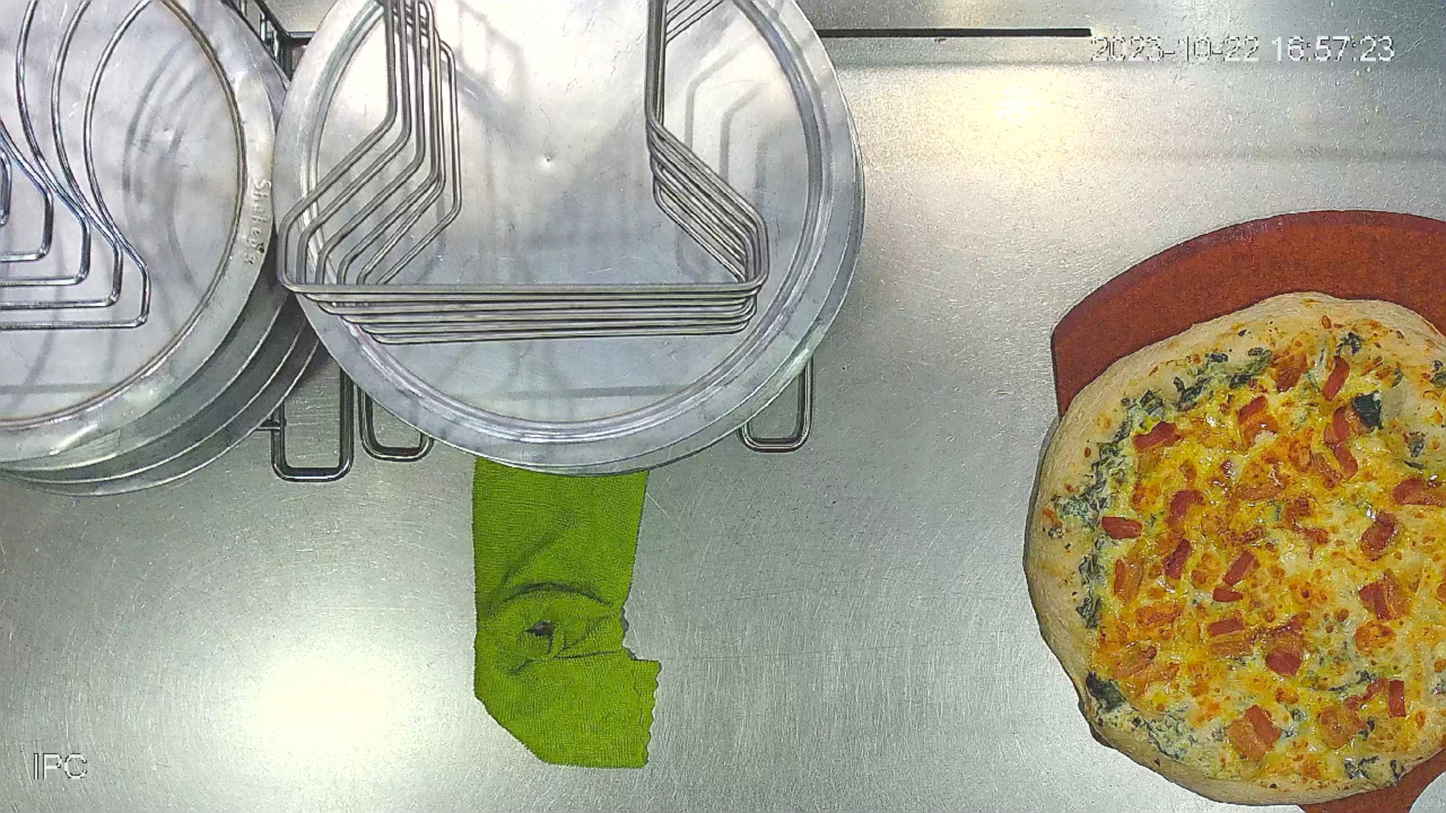bianca: (1021, 294, 1441, 796)
